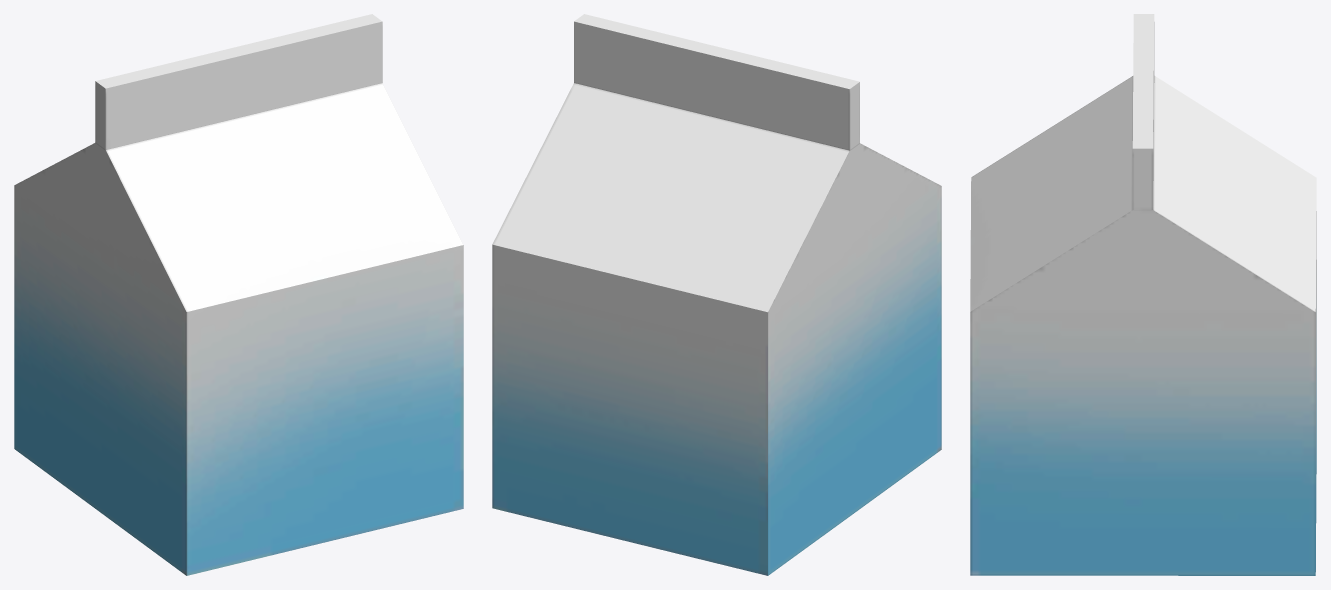
Rendered from leite.fbx.
3 views of the same model, side by side, from view 1: azimuth 30°, elevation 25°; view 2: azimuth 150°, elevation 25°; view 3: azimuth 270°, elevation 25° (orthographic).
Parts seen in each view (by area): view 1: Watermelon; view 2: Watermelon; view 3: Watermelon.
Part boxes in pixels (x1,y1,x2,y2): Watermelon: [14, 14, 463, 575]; Watermelon: [492, 14, 941, 575]; Watermelon: [970, 14, 1316, 575].
Bounding box in the file's own units: 2.79 × 4.11 × 3.02.
